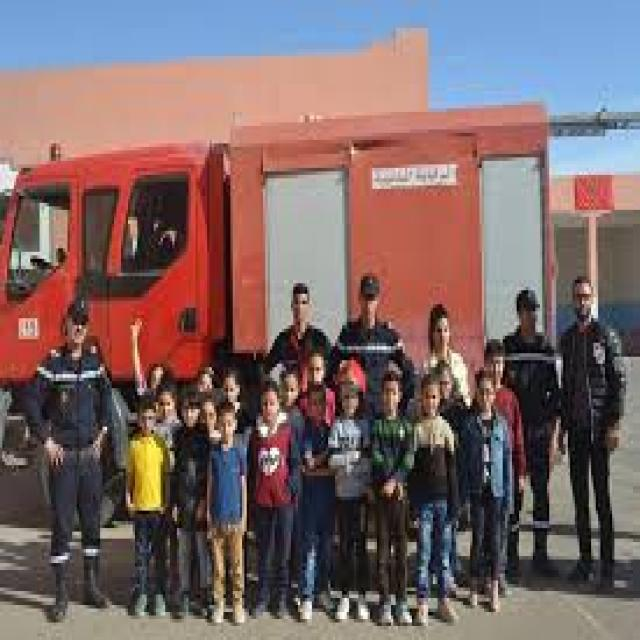pompier: (4, 122, 552, 371)
